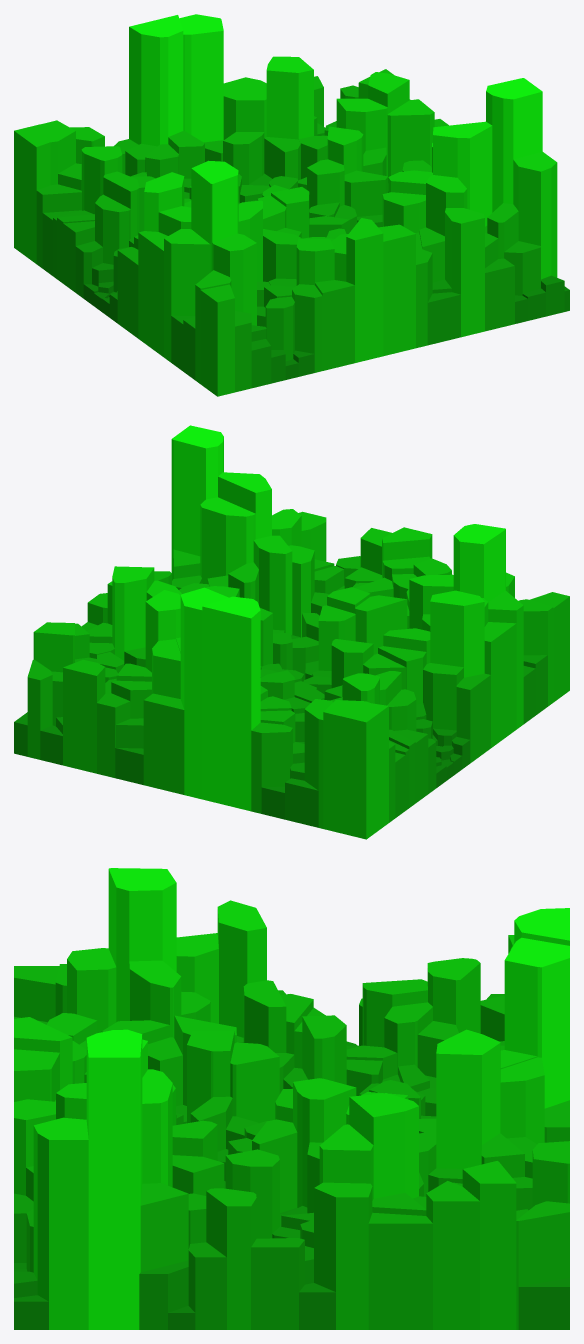
File: VTOWNg2.fbx
3 views of the same model, one above another, from view 1: azimuth 30°, elevation 25°; view 2: azimuth 150°, elevation 25°; view 3: azimuth 270°, elevation 25° (orthographic). The views are drawn at different scales.
Parts seen in each view (by area): view 1: オブジェクト_251, オブジェクト_103, オブジェクト_214, オブジェクト_205, オブジェクト_207, オブジェクト_100, オブジェクト_177, オブジェクト_6, オブジェクト_211, オブジェクト_51, オブジェクト_206, オブジェクト_69 (+57 smaller); view 2: オブジェクト_251, オブジェクト_51, オブジェクト_103, オブジェクト_214, オブジェクト_159, オブジェクト_276, オブジェクト_179, オブジェクト_147, オブジェクト_230, オブジェクト_244, オブジェクト_200, オブジェクト_40 (+56 smaller); view 3: オブジェクト_103, オブジェクト_207, オブジェクト_214, オブジェクト_211, オブジェクト_37, オブジェクト_154, オブジェクト_230, オブジェクト_162, オブジェクト_58, オブジェクト_200, オブジェクト_161, オブジェクト_159 (+55 smaller).
Part boxes in pixels (bbox=[...]): オブジェクト_251: bbox=[129, 15, 183, 146]; オブジェクト_103: bbox=[486, 78, 542, 212]; オブジェクト_214: bbox=[179, 14, 223, 142]; オブジェクト_205: bbox=[346, 218, 383, 362]; オブジェクト_207: bbox=[513, 151, 557, 279]; オブジェクト_100: bbox=[445, 208, 484, 337]; オブジェクト_177: bbox=[433, 121, 492, 226]; オブジェクト_6: bbox=[378, 224, 415, 356]; オブジェクト_211: bbox=[266, 56, 313, 139]; オブジェクト_51: bbox=[14, 124, 50, 263]; オブジェクト_206: bbox=[200, 284, 234, 396]; オブジェクト_69: bbox=[164, 229, 210, 362]; オブジェクト_251: bbox=[202, 596, 260, 811]; オブジェクト_51: bbox=[340, 703, 388, 839]; オブジェクト_103: bbox=[171, 425, 223, 580]; オブジェクト_214: bbox=[180, 587, 228, 799]; オブジェクト_159: bbox=[430, 590, 484, 677]; オブジェクト_276: bbox=[63, 659, 105, 773]; オブジェクト_179: bbox=[143, 693, 184, 794]; オブジェクト_147: bbox=[200, 497, 255, 583]; オブジェクト_230: bbox=[453, 524, 505, 601]; オブジェクト_244: bbox=[484, 622, 516, 747]; オブジェクト_200: bbox=[112, 566, 154, 660]; オブジェクト_40: bbox=[253, 535, 292, 634]; オブジェクト_103: bbox=[86, 1029, 142, 1329]; オブジェクト_207: bbox=[33, 1117, 88, 1329]; オブジェクト_214: bbox=[504, 937, 569, 1108]; オブジェクト_211: bbox=[436, 1029, 500, 1168]; オブジェクト_37: bbox=[368, 1212, 432, 1329]; オブジェクト_154: bbox=[314, 1182, 372, 1329]; オブジェクト_230: bbox=[108, 868, 176, 1021]; オブジェクト_162: bbox=[426, 1181, 479, 1329]; オブジェクト_58: bbox=[462, 1161, 516, 1329]; オブジェクト_200: bbox=[349, 1093, 418, 1198]; オブジェクト_161: bbox=[206, 1188, 256, 1329]; オブジェクト_159: bbox=[217, 900, 266, 1037].
Bounding box in the file's own units: 100 × 100 × 54.
